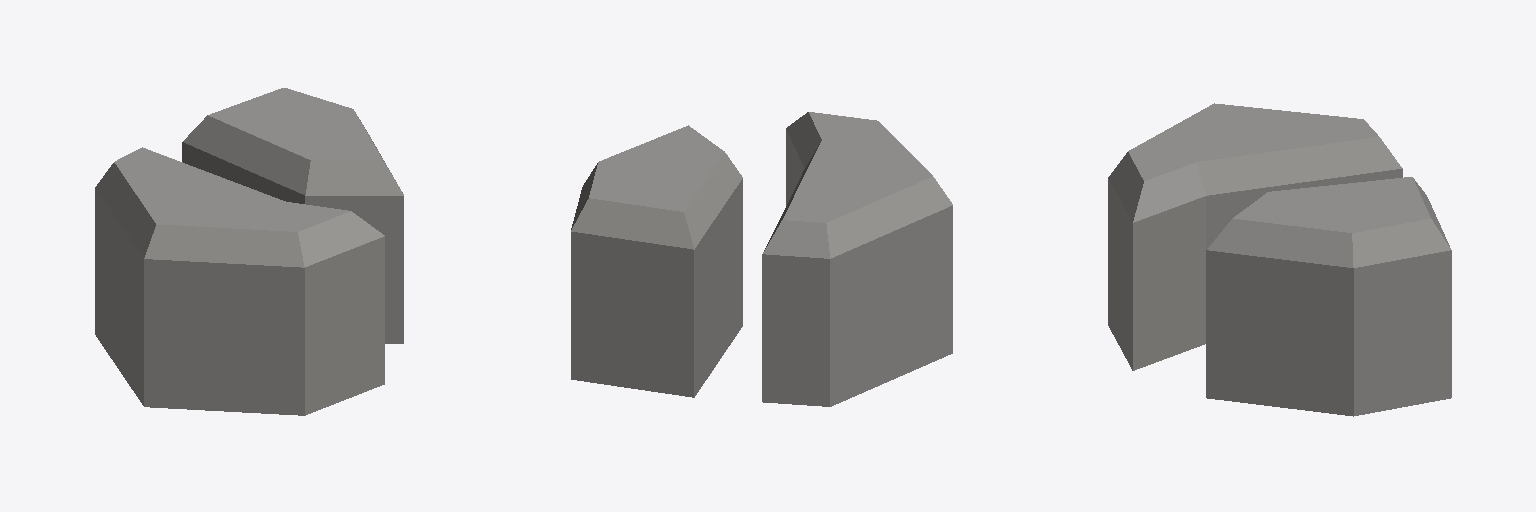
The model's file is Hilly_Prop_Stepping_Stones_7.obj.
3 views of the same model, side by side, from view 1: azimuth 30°, elevation 25°; view 2: azimuth 150°, elevation 25°; view 3: azimuth 270°, elevation 25° (orthographic).
Visible parts, largest first — view 1: object1, object2; view 2: object1, object2; view 3: object2, object1.
Boxes of the visible parts, <box> form: object1: <box>95,147,384,415</box>; object2: <box>182,88,403,343</box>; object1: <box>762,112,952,406</box>; object2: <box>571,125,742,397</box>; object2: <box>1206,177,1451,416</box>; object1: <box>1108,103,1402,370</box>.
Bounding box in the file's own units: 0.42 × 0.2375 × 0.42.